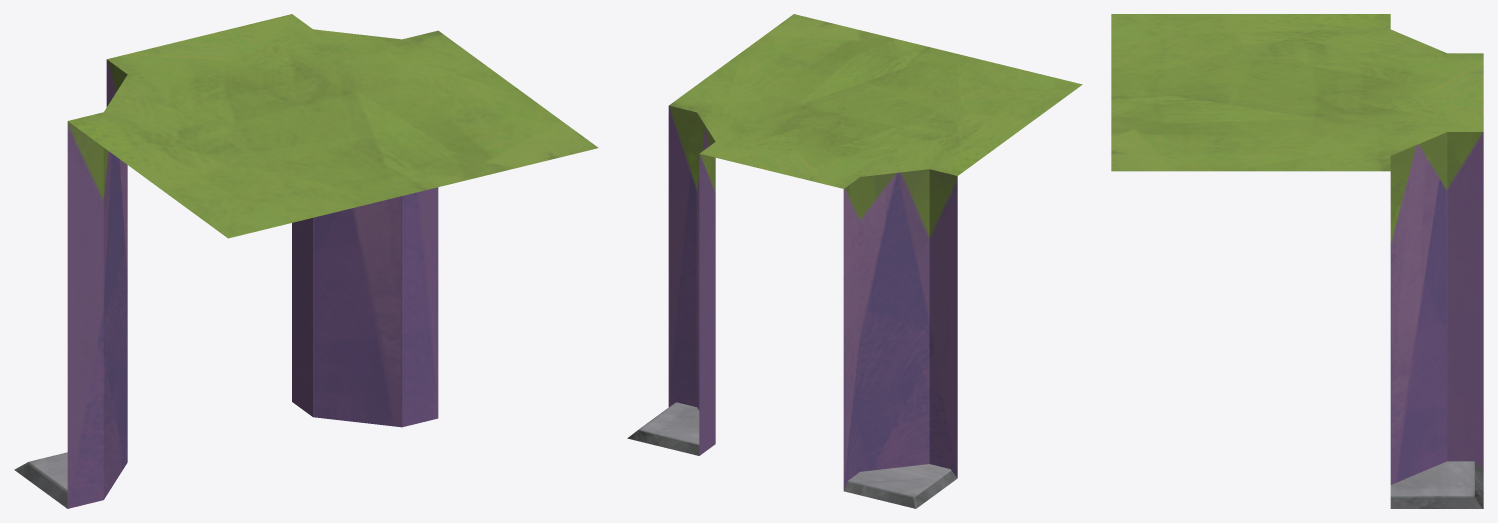
File: wall_thick_junction.fbx
3 renders of one model, left to right at view 1: azimuth 30°, elevation 25°; view 2: azimuth 150°, elevation 25°; view 3: azimuth 270°, elevation 25°, orthographic. The views are drawn at different scales.
Parts seen in each view (by area): view 1: wall_thick_junction; view 2: wall_thick_junction; view 3: wall_thick_junction.
Boxes of the visible parts, bbox=[...] form: wall_thick_junction: bbox=[14, 14, 598, 508]; wall_thick_junction: bbox=[627, 14, 1082, 508]; wall_thick_junction: bbox=[1111, 14, 1483, 508].
Size of the model in its own units: 0.02 by 0.02 by 0.02.
